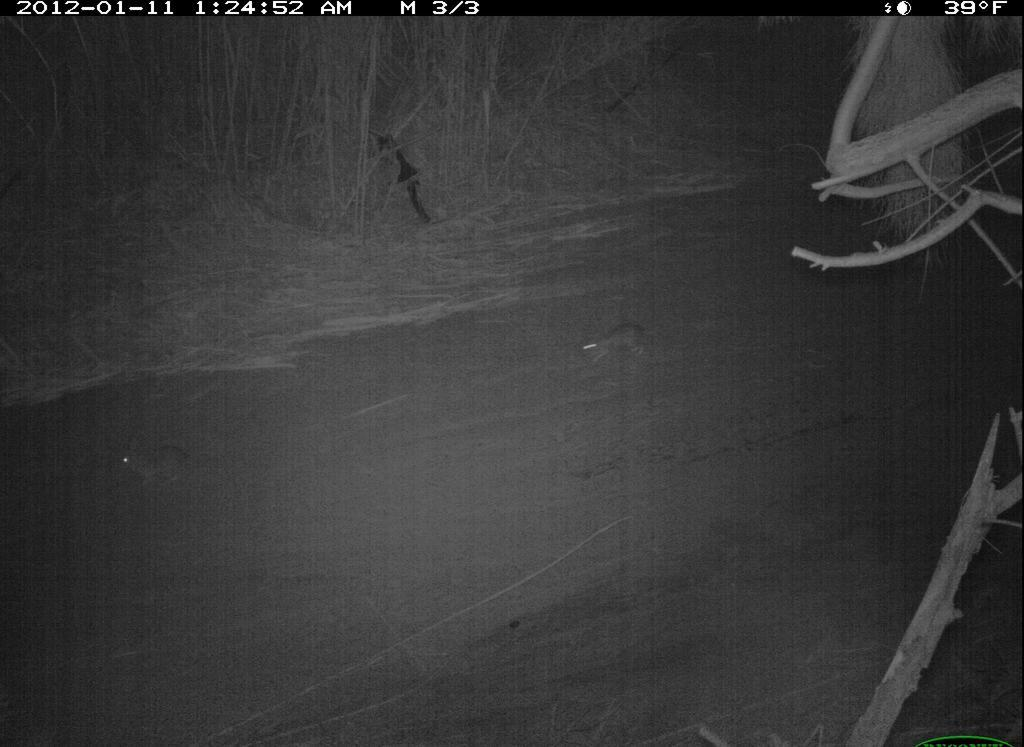rabbit: (553, 303, 665, 379), (109, 433, 201, 492)
